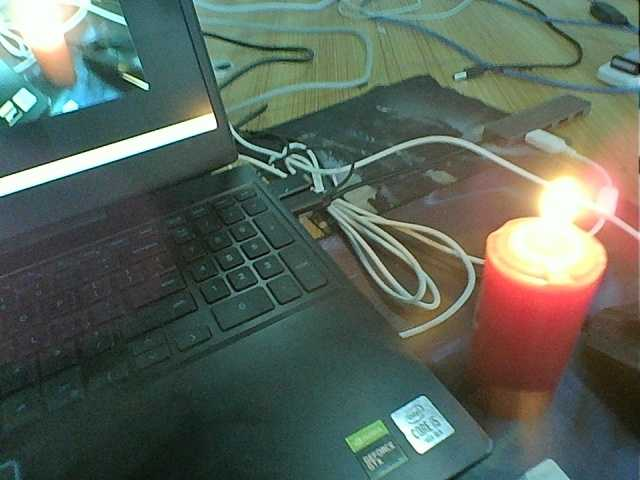candle: (468, 209, 608, 440), (35, 45, 83, 94)
fire: (528, 174, 600, 273), (19, 6, 64, 53), (188, 105, 235, 132)
